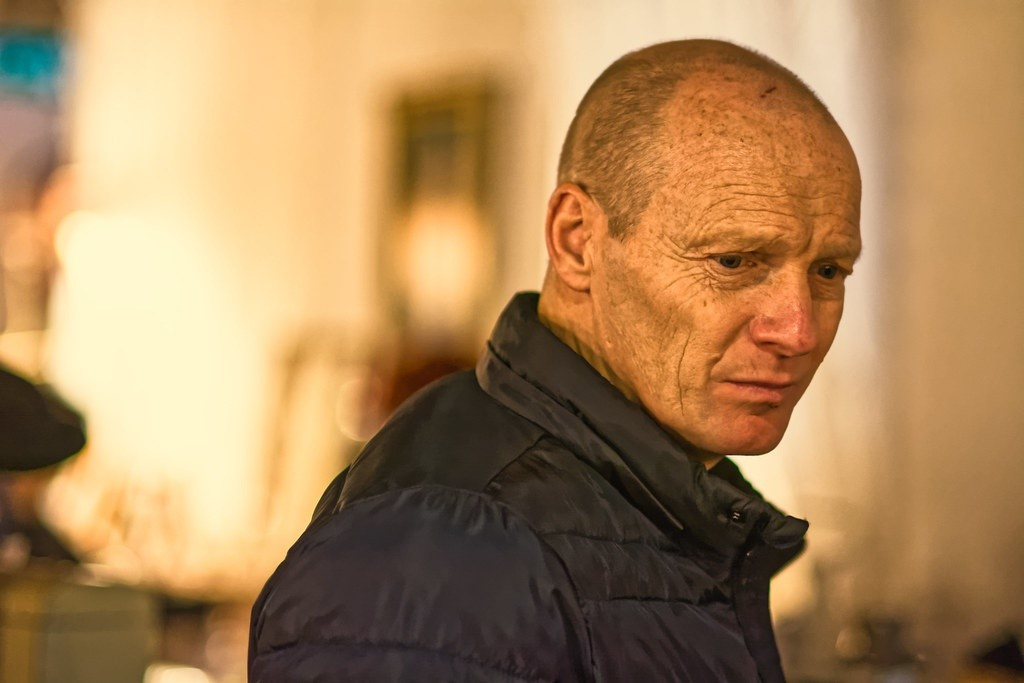face_no_mask: (544, 41, 861, 455)
